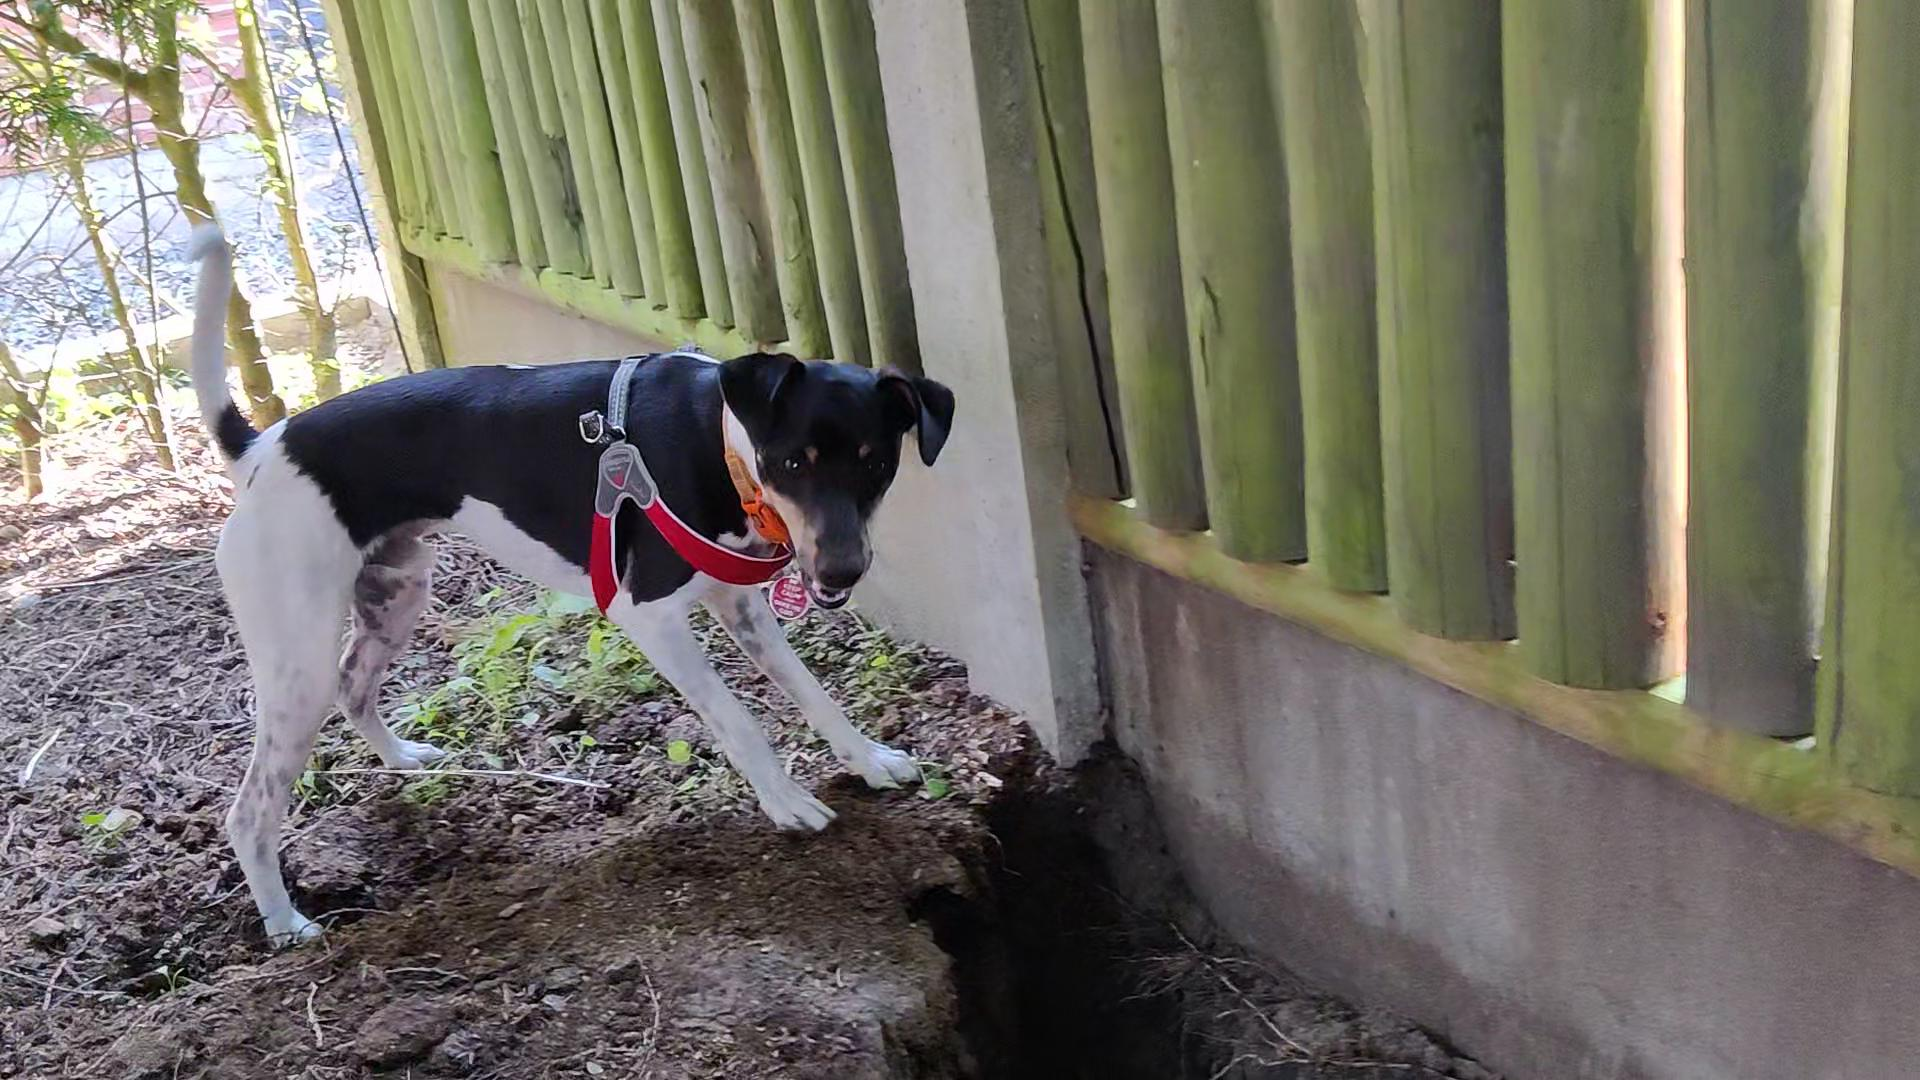Dog: (138, 202, 990, 965)
